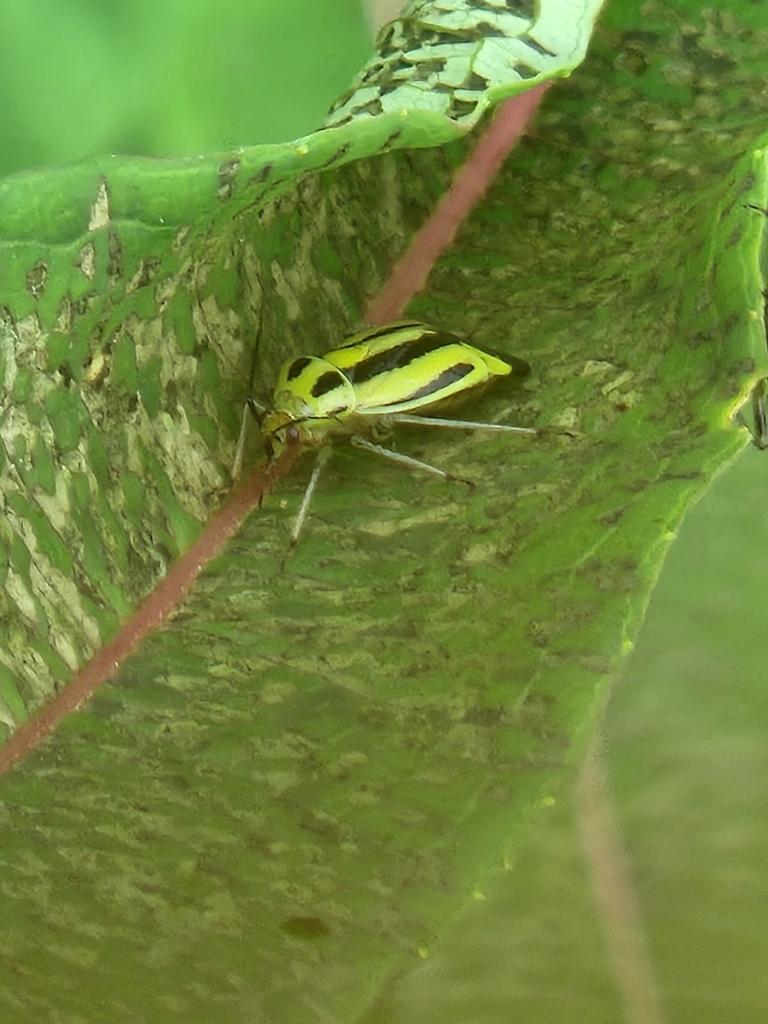plant_bugs: (209, 261, 596, 591)
